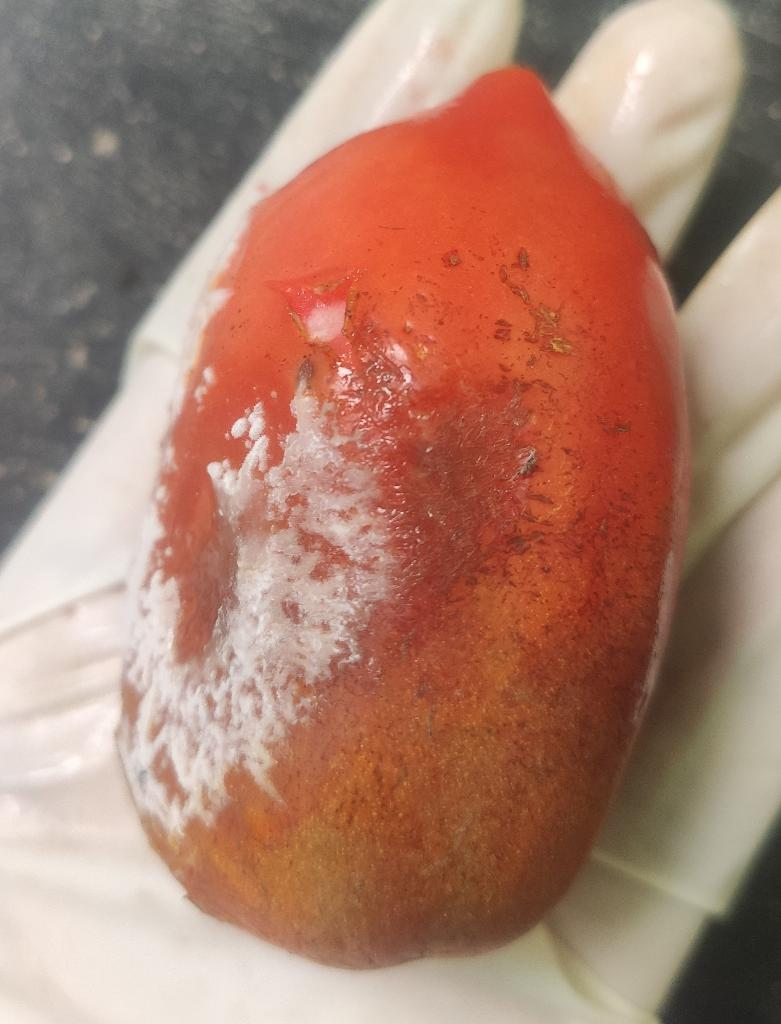rot_mold_decay: (119, 206, 400, 833), (417, 375, 550, 585), (306, 302, 351, 343)
surface_damage: (265, 270, 358, 361), (500, 248, 574, 354), (299, 358, 312, 385)
tomato: (119, 69, 689, 968)
